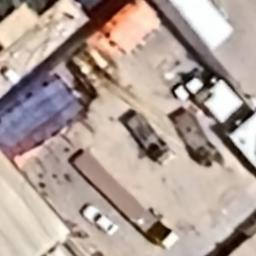sedan: (79, 202, 122, 236)
